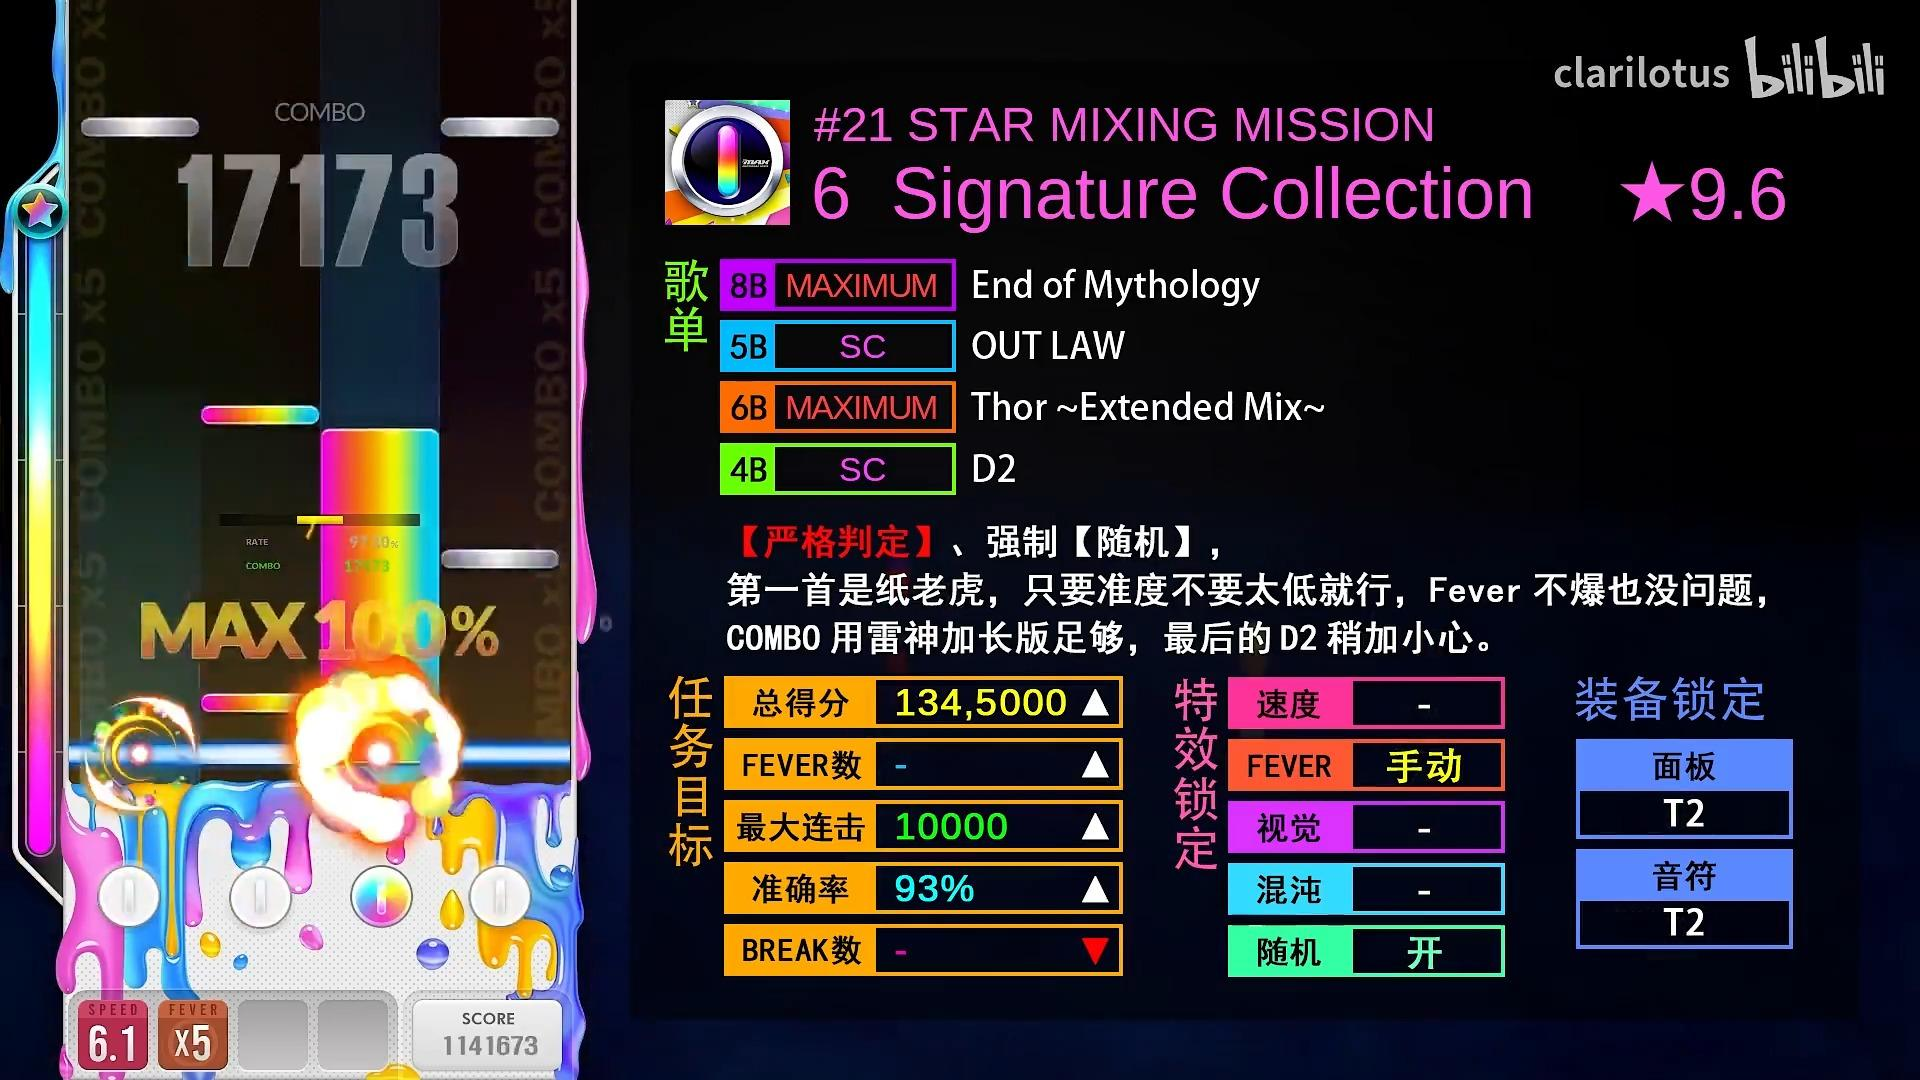hold-end: (320, 429, 440, 451)
note: (80, 117, 200, 138), (202, 405, 320, 426), (200, 692, 319, 713), (440, 117, 559, 137), (442, 550, 559, 570)
